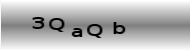3: (31, 15, 46, 30)
Q: (47, 17, 65, 33), (86, 23, 103, 39)
a: (70, 27, 83, 38)
b: (112, 21, 126, 36)
